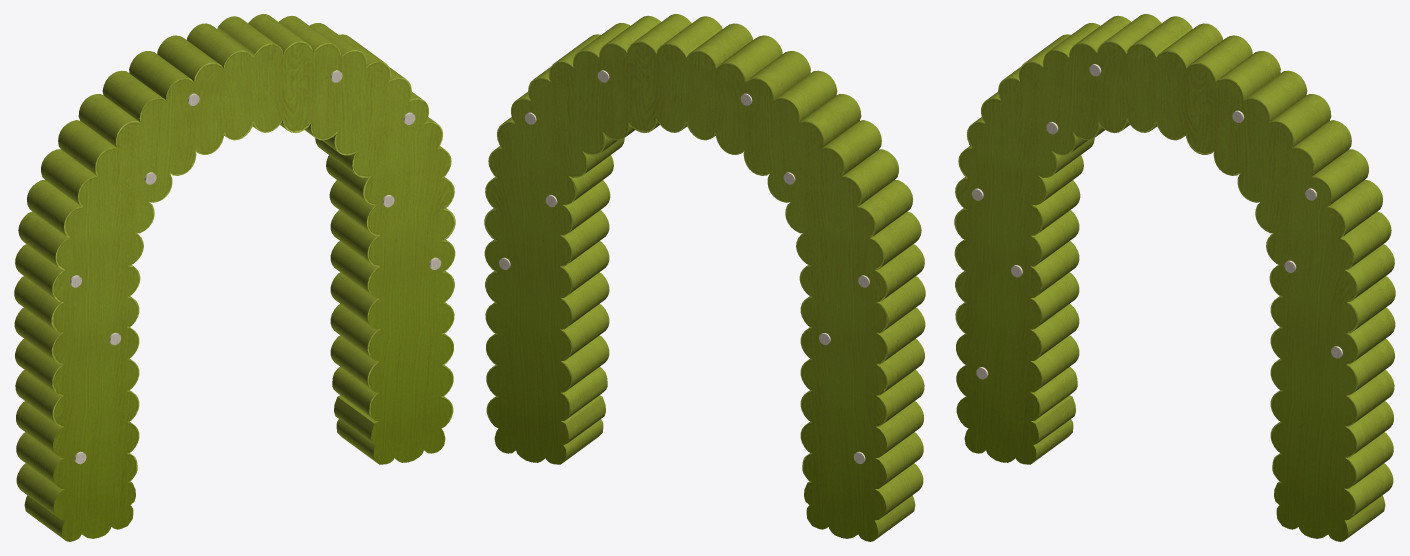
Rendered from Doll_OB_ToyTrainDec_002.FBX.
3 renders of one model, left to right at view 1: azimuth 30°, elevation 25°; view 2: azimuth 150°, elevation 25°; view 3: azimuth 330°, elevation 25°, orthographic.
Parts seen in each view (by area): view 1: Doll_OB_ToyTrainDec_002; view 2: Doll_OB_ToyTrainDec_002; view 3: Doll_OB_ToyTrainDec_002.
Boxes of the visible parts, <box> form: Doll_OB_ToyTrainDec_002: <box>14,14,455,541</box>; Doll_OB_ToyTrainDec_002: <box>484,14,925,541</box>; Doll_OB_ToyTrainDec_002: <box>954,14,1395,541</box>.
Bounding box in the file's own units: 31.3 × 33.49 × 5.26.
